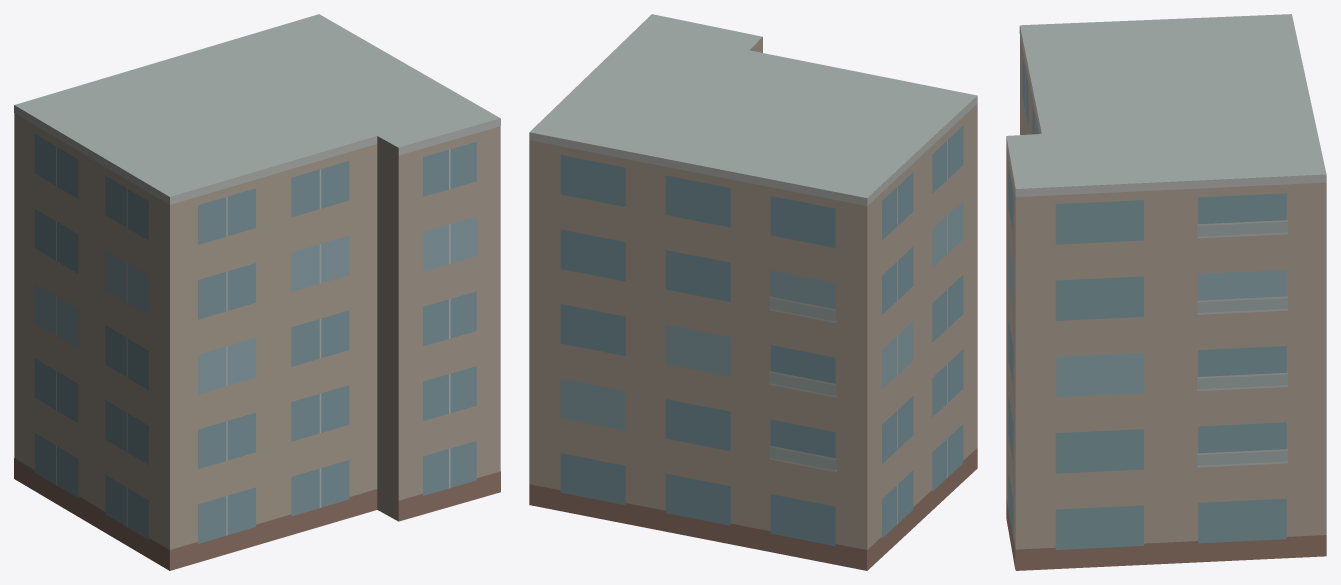
The model's file is survey-upis-32717596.glb.
3 renders of one model, left to right at view 1: azimuth 30°, elevation 25°; view 2: azimuth 150°, elevation 25°; view 3: azimuth 270°, elevation 25°, orthographic. The views are drawn at different scales.
Visible parts, largest first — view 1: survey-upis-32717596.tmp; view 2: survey-upis-32717596.tmp; view 3: survey-upis-32717596.tmp.
Part boxes in pixels (box(x1,y1,x2,y2)): survey-upis-32717596.tmp: box(14, 14, 500, 570); survey-upis-32717596.tmp: box(529, 14, 977, 570); survey-upis-32717596.tmp: box(1006, 14, 1326, 570).
Size of the model in its own units: 11.37 by 11.55 by 8.79.
